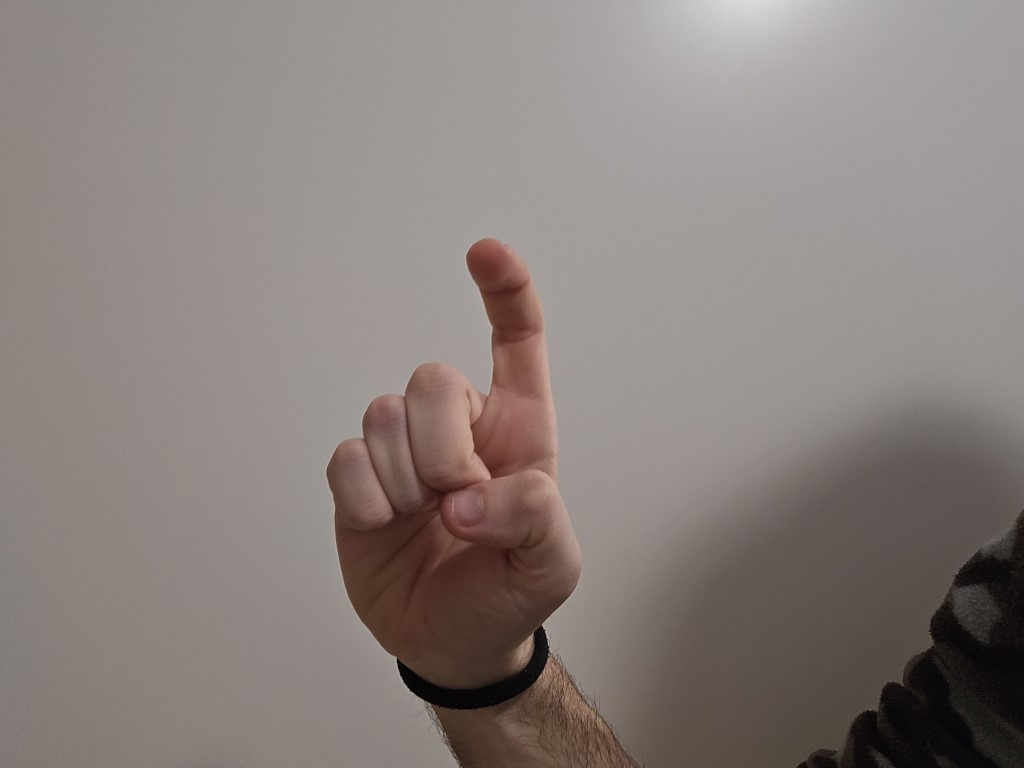x: (265, 229, 624, 664)
